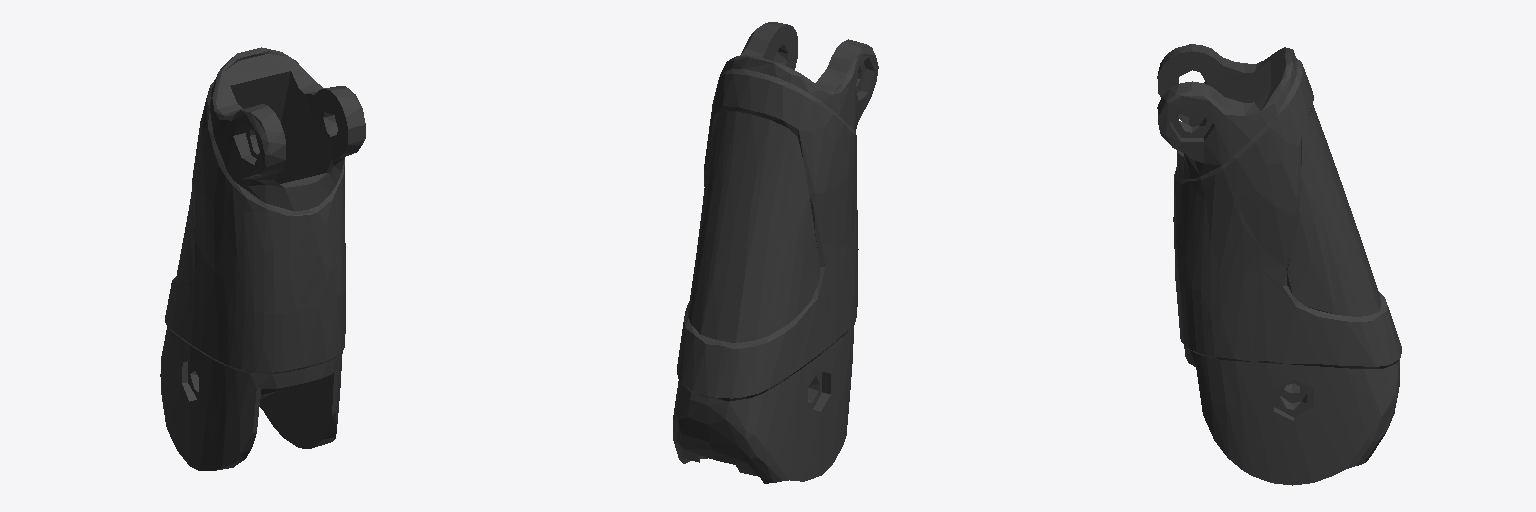
Rendered from R_middle_proximal.obj.
3 renders of one model, left to right at view 1: azimuth 30°, elevation 25°; view 2: azimuth 150°, elevation 25°; view 3: azimuth 270°, elevation 25°, orthographic.
Bounding box in the file's own units: 0.0143 × 0.0448 × 0.0248.